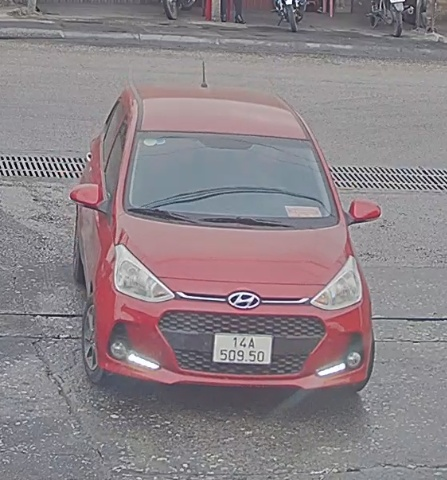vehicle plate: (205, 326, 275, 367)
